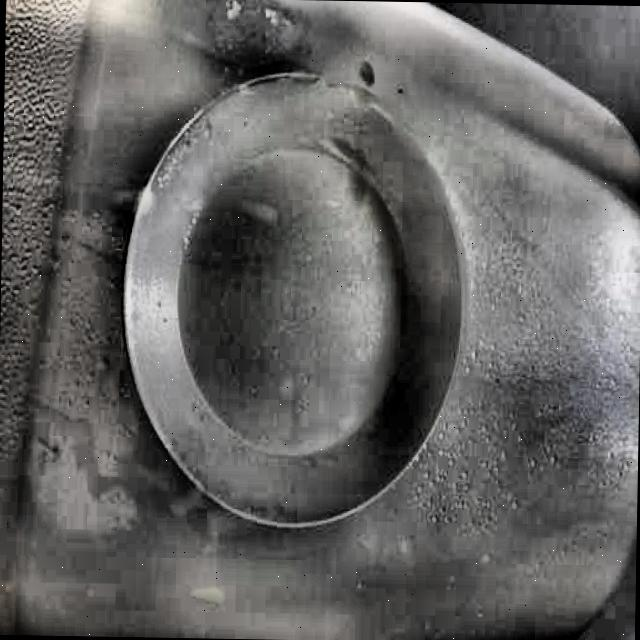plastic: (59, 45, 482, 572)
